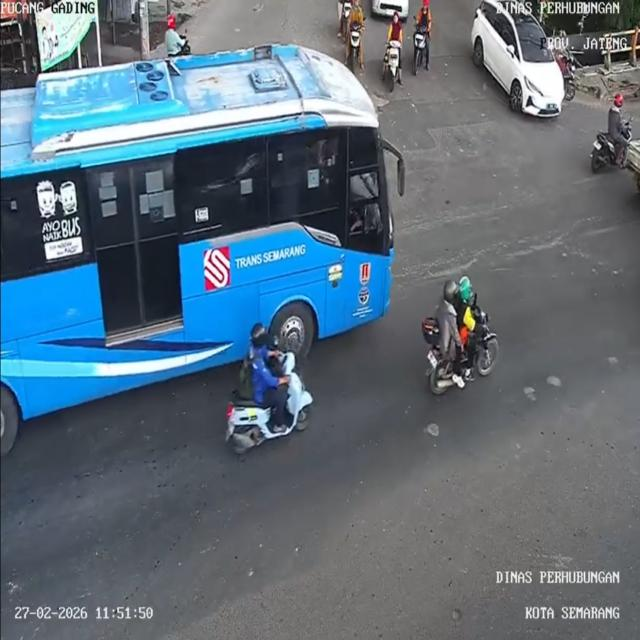motorcycle: (226, 379, 318, 449), (427, 312, 501, 389), (586, 128, 630, 170), (381, 36, 404, 90), (412, 26, 432, 76), (347, 23, 364, 71), (562, 56, 577, 97)
person: (236, 311, 282, 399), (426, 280, 464, 346), (451, 272, 481, 355), (160, 18, 190, 57), (606, 91, 630, 138), (384, 9, 406, 50), (344, 0, 366, 32), (415, 0, 436, 33)
rider_region: (229, 321, 318, 454), (420, 275, 502, 389), (587, 93, 635, 170), (341, 0, 369, 74), (382, 8, 406, 92), (412, 0, 438, 77)
